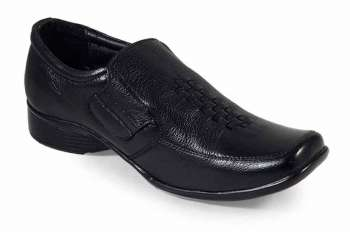Footwear: (19, 14, 334, 204)
